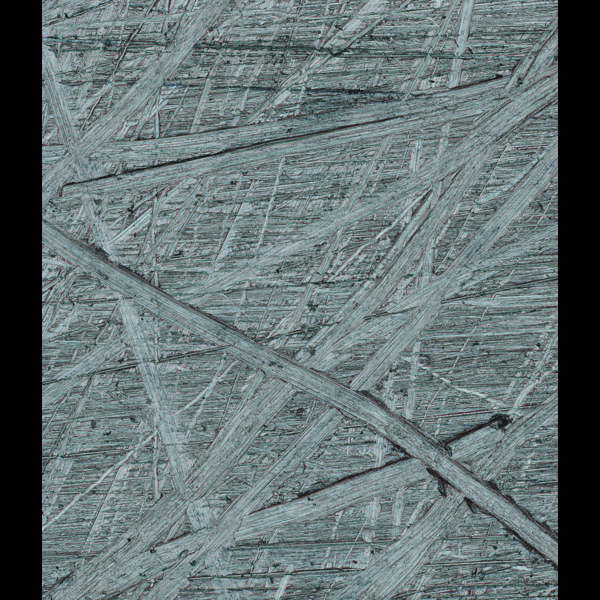d: (42, 5, 555, 595)
